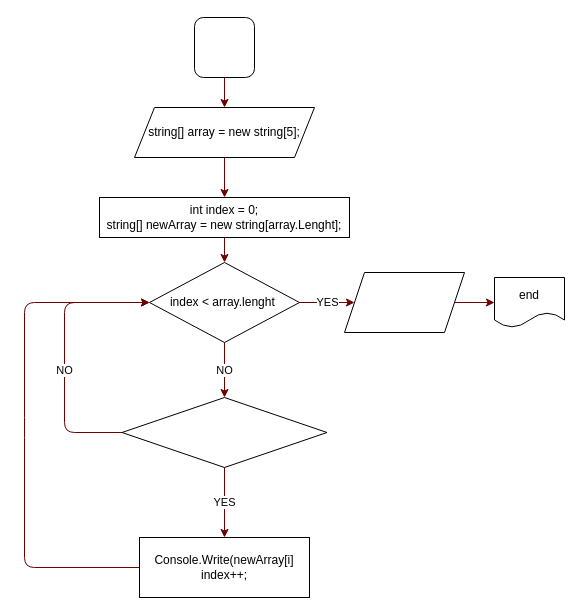
Some shapes in this 582 by 615 pixel diagram are drawn without their labels. The centre of each missing label's shape, as x and y in pixels:
"array[index].Lenght <= 3" goes at (x=224, y=432).
"Print(newArray);" goes at (x=404, y=302).
"Start" goes at (x=224, y=47).
